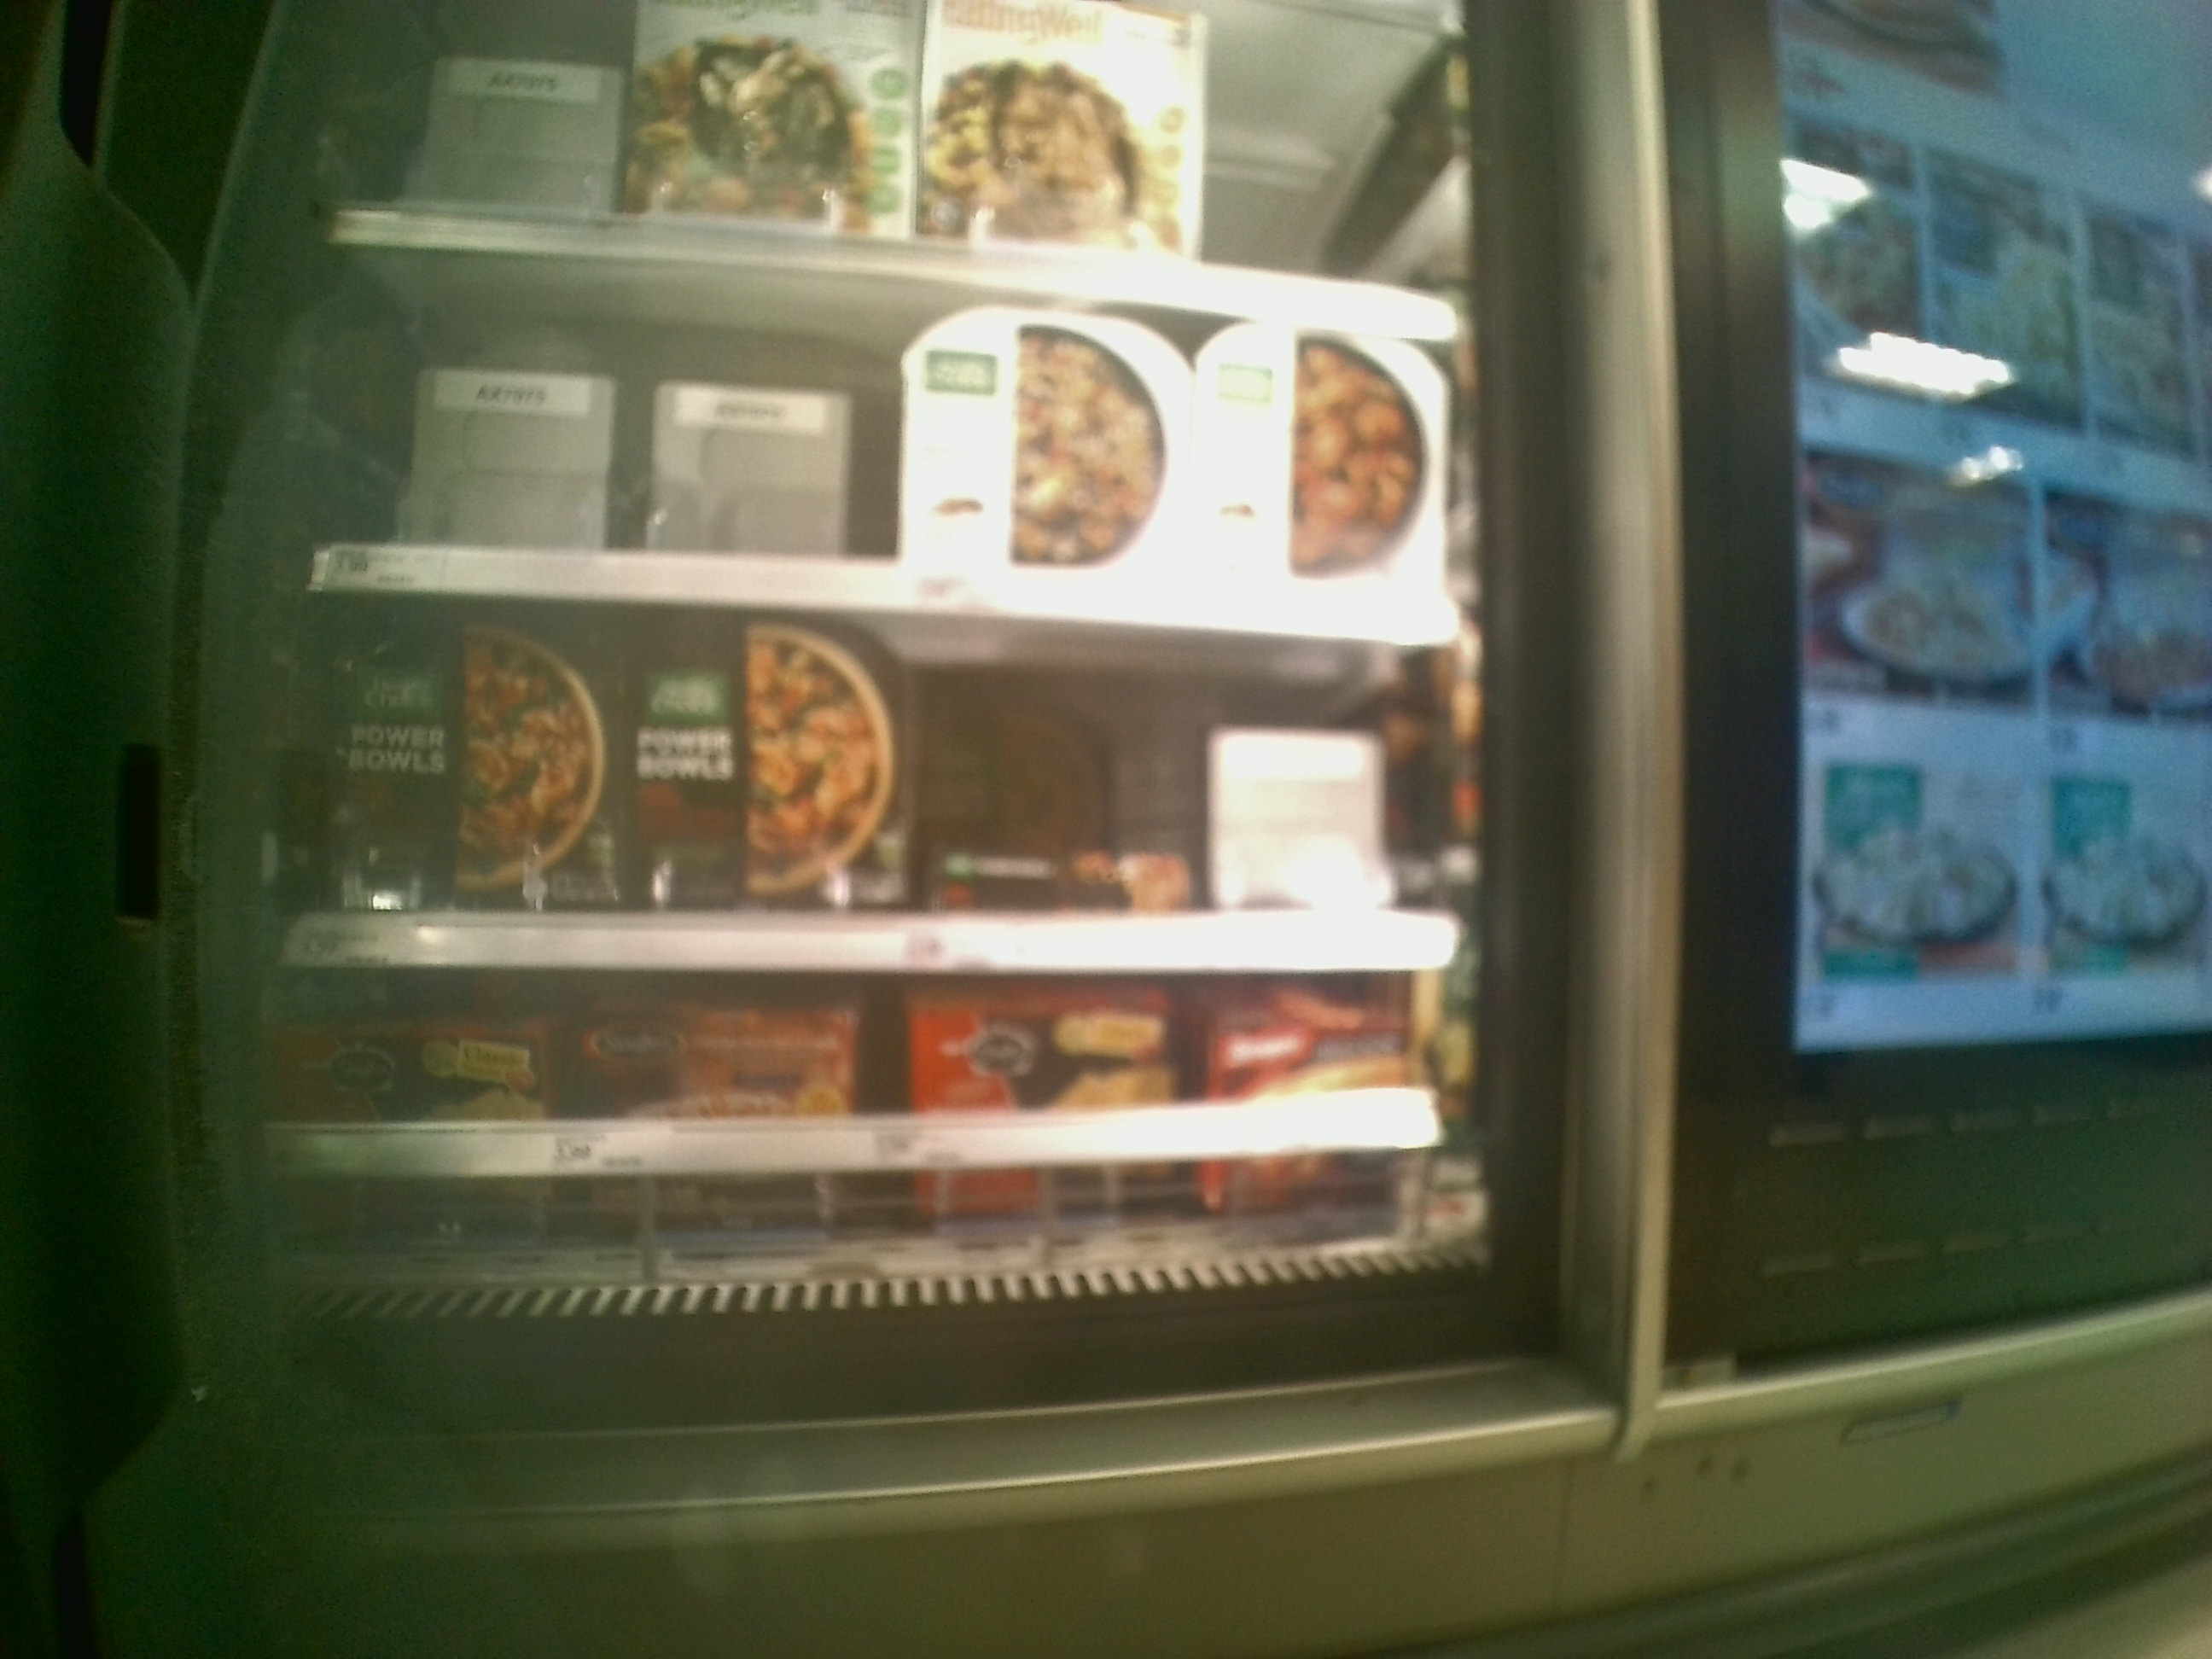shelf: (298, 227, 1475, 638), (310, 592, 1470, 967), (270, 964, 1489, 1316)
